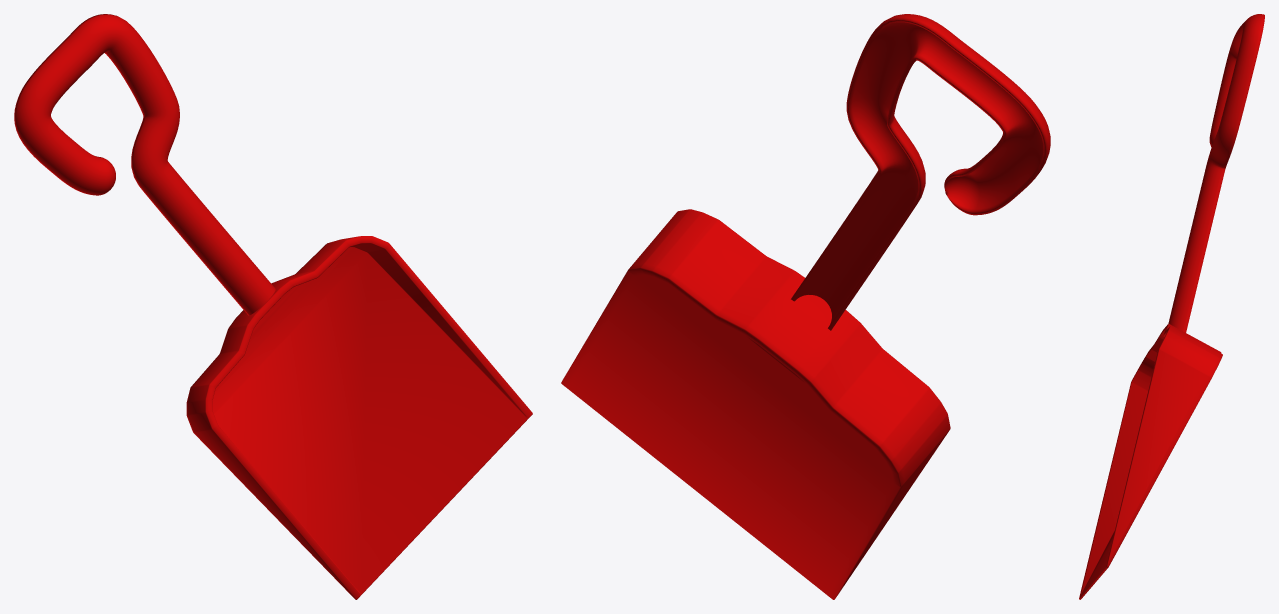
The picture shows the model from 3 angles, left to right: view 1: azimuth 30°, elevation 25°; view 2: azimuth 150°, elevation 25°; view 3: azimuth 270°, elevation 25°; orthographic projection. The views are drawn at different scales.
Parts seen in each view (by area): view 1: BezierCurve.001; view 2: BezierCurve.001; view 3: BezierCurve.001.
Boxes of the visible parts, x1,y1,x2,y2 form: BezierCurve.001: (14,14,532,599); BezierCurve.001: (561,14,1050,599); BezierCurve.001: (1079,14,1264,599).
Bounding box in the file's own units: 0.9901 × 1.18 × 0.3887.
